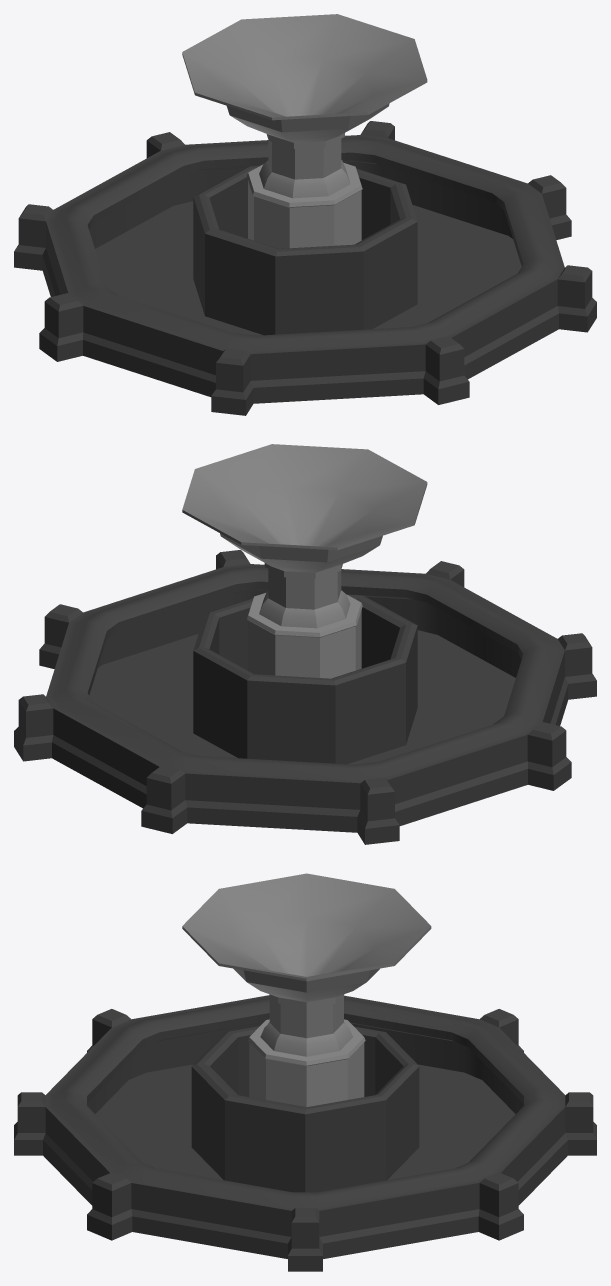
File: StreetFont2.fbx
3 views of the same model, one above another, from view 1: azimuth 30°, elevation 25°; view 2: azimuth 150°, elevation 25°; view 3: azimuth 270°, elevation 25° (orthographic).
Parts seen in each view (by area): view 1: StreetFont2; view 2: StreetFont2; view 3: StreetFont2.
Part boxes in pixels (box(x1,y1,x2,y2)): StreetFont2: box(14, 14, 596, 415); StreetFont2: box(14, 444, 596, 844); StreetFont2: box(14, 873, 596, 1271).
Bounding box in the file's own units: 1301 × 547 × 1301.
